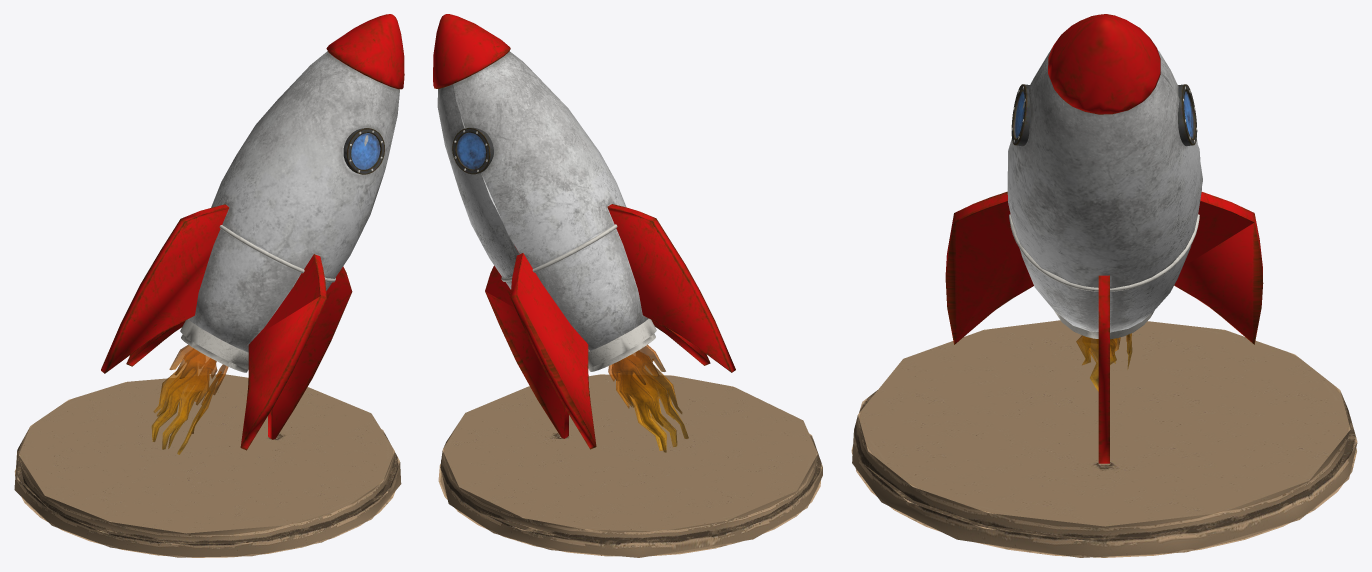
File: toy_rocketship_ar.glb
The picture shows the model from 3 angles, left to right: view 1: azimuth 30°, elevation 25°; view 2: azimuth 150°, elevation 25°; view 3: azimuth 270°, elevation 25°; orthographic projection. The views are drawn at different scales.
Visible parts, largest first — view 1: rocket_toy; view 2: rocket_toy; view 3: rocket_toy.
Boxes of the visible parts, x1=… form: rocket_toy: x1=14, y1=14, x2=404, y2=557; rocket_toy: x1=433, y1=14, x2=822, y2=557; rocket_toy: x1=851, y1=14, x2=1357, y2=557.
Size of the model in its own units: 0.2239 by 0.2485 by 0.2079.
7 materials, 7 textured.
